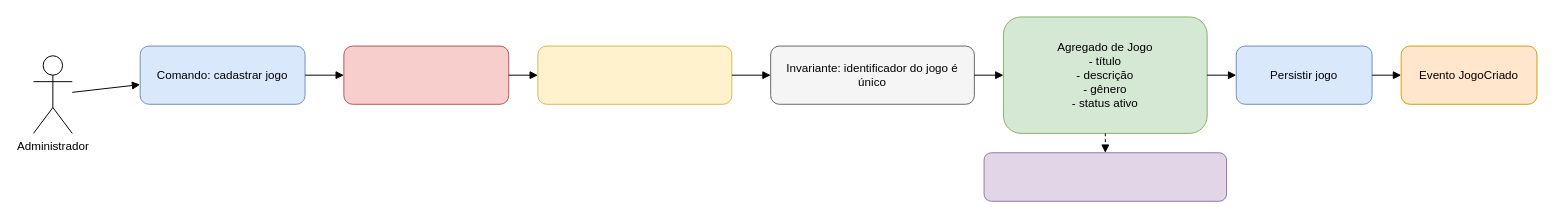
Some shapes in this 1554 by 218 pixel diagram are drawn without their labels. Here are the shapes that lost their labels. From the top down, the centre of each, then its label:
the point at 426,74: Autorizar administrador
the point at 634,74: Validar título, descrição e gênero
the point at 1105,176: Política: manter cadastro do catálogo separado da propriedade
